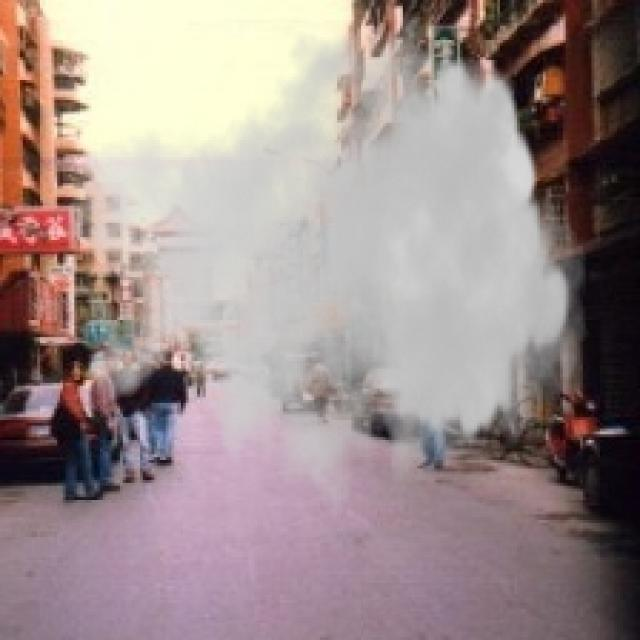Smoke: (66, 3, 588, 546)
